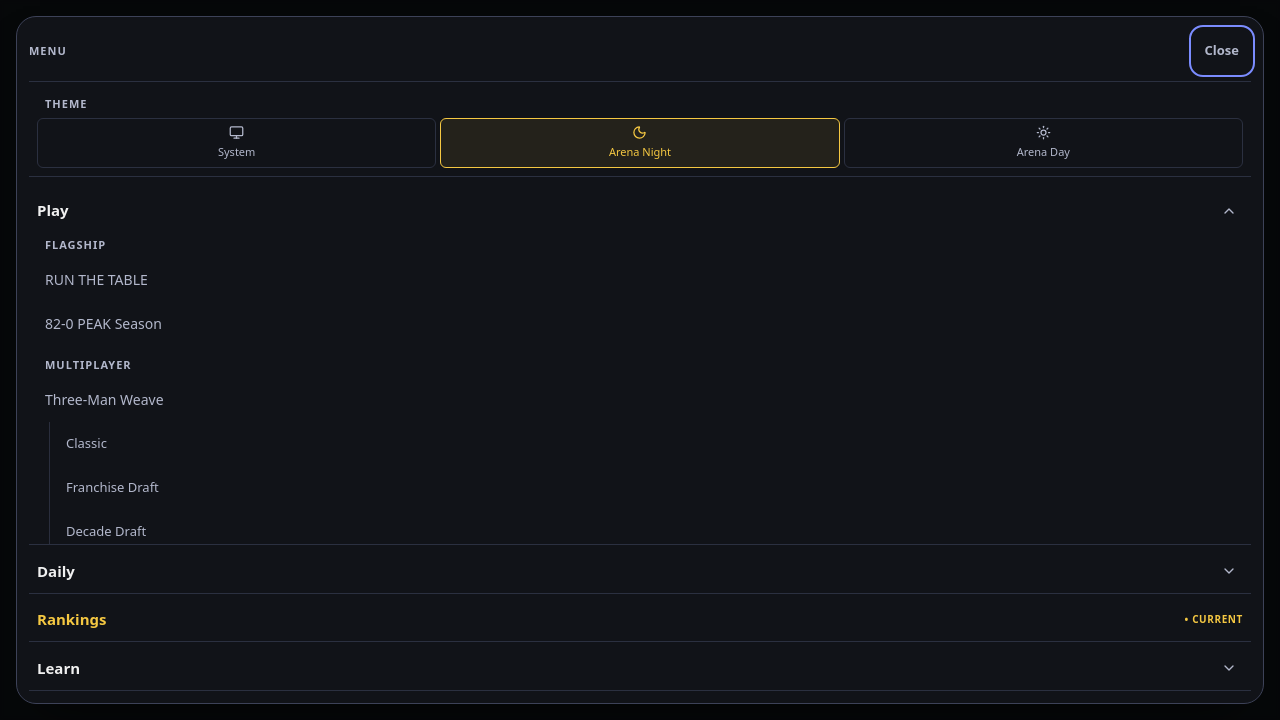
Test: MobileNavDrawer › never has two sections open at once, which is what keeps Rankings in reach
The width and height of the screenshot is (1280, 720).
Click the button with test id "mobile-nav-toggle-daily" at (1229, 571), box [1207, 549, 1251, 593]
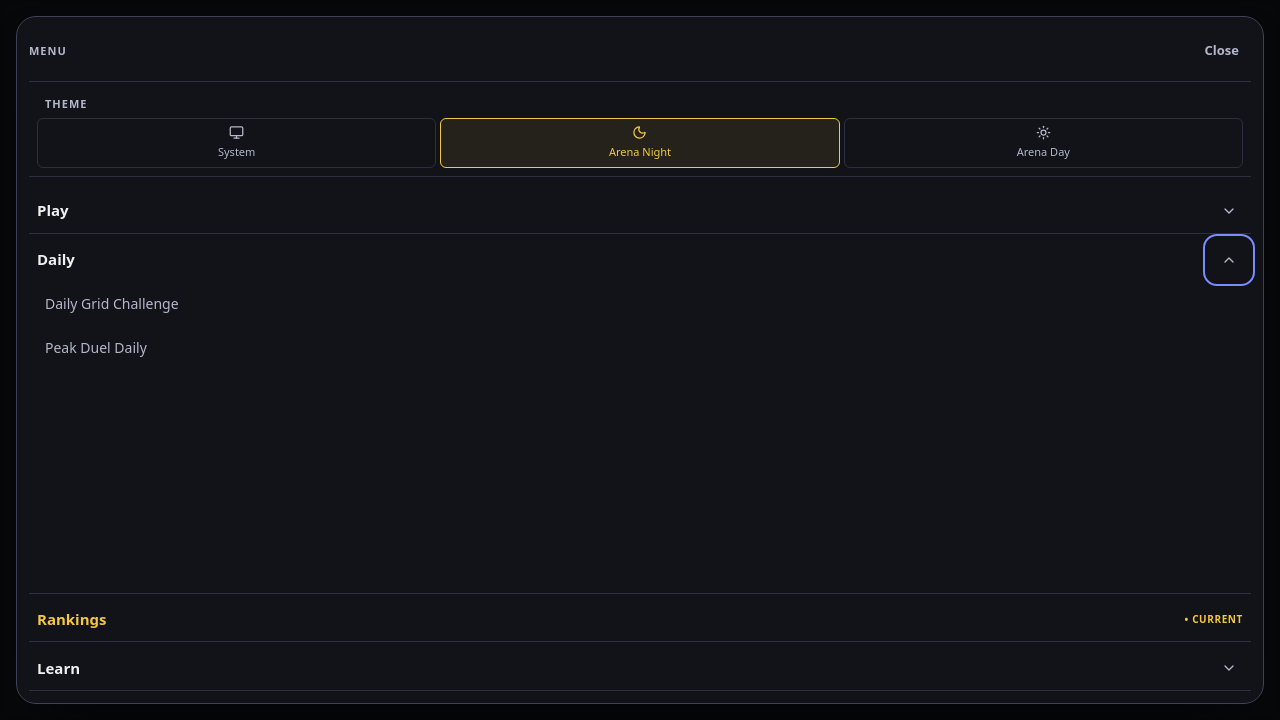
Expected: the button with test id "mobile-nav-toggle-play" is collapsed, [1207, 188, 1251, 232]
